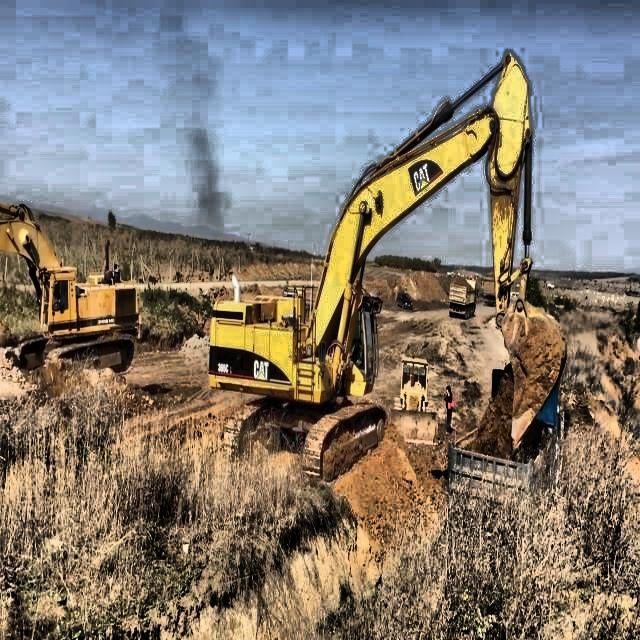bull_dozer/loader/grader: (390, 354, 440, 444)
dump_truck: (449, 371, 558, 516), (448, 274, 476, 318)
excavator: (206, 52, 568, 487), (0, 201, 139, 372)
